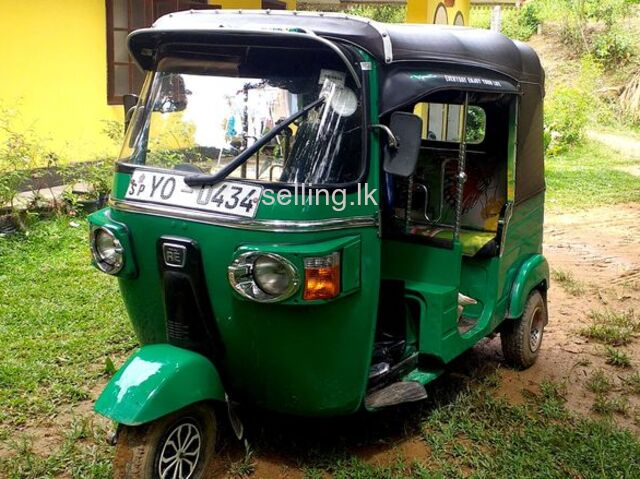threewheel: (87, 7, 550, 479)
